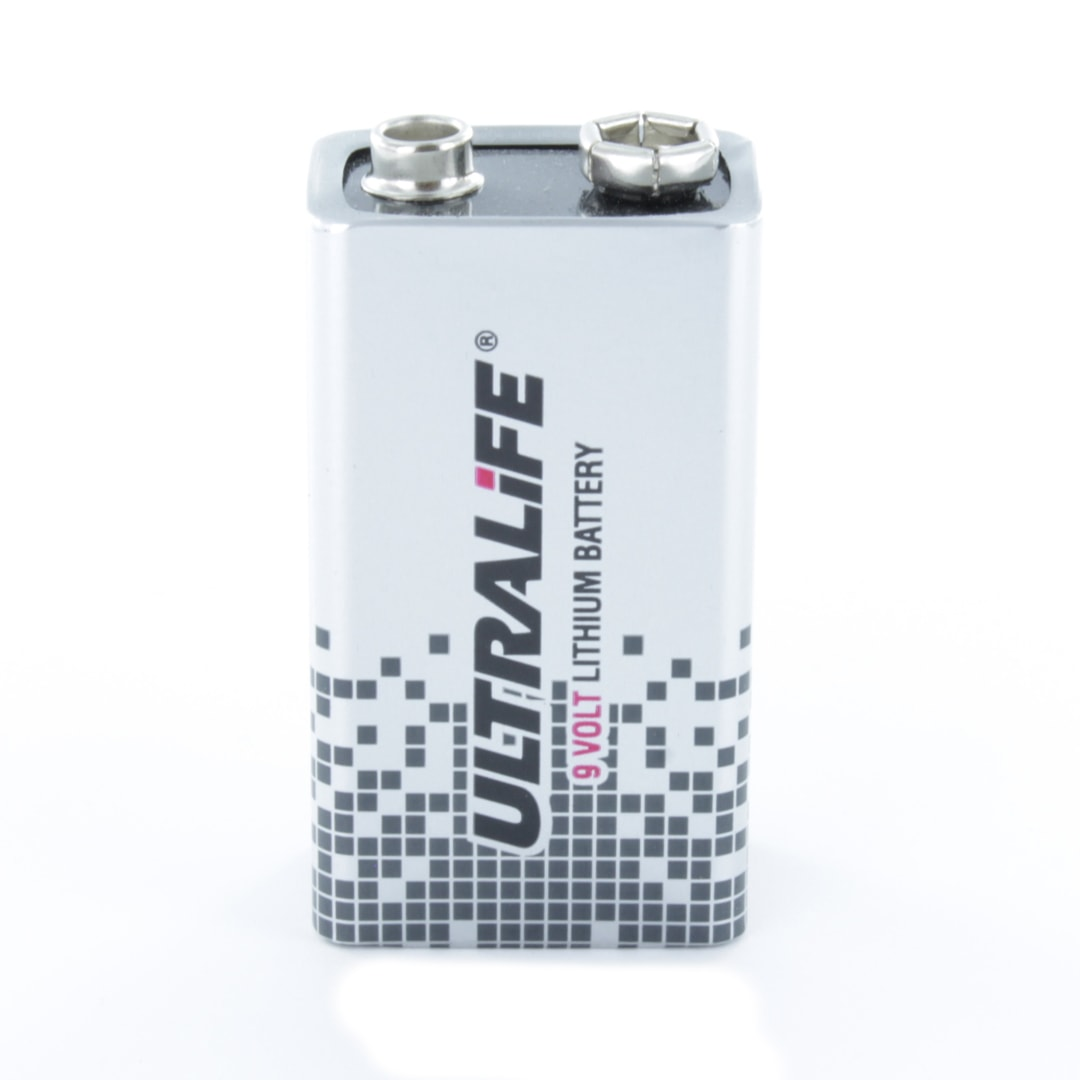9V: (296, 84, 796, 971)
